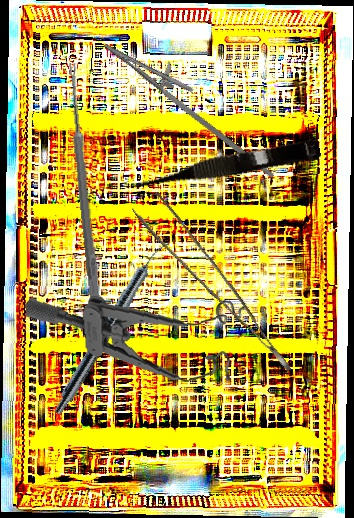Handpiece: (50, 234, 172, 420)
Micro Scissor: (124, 134, 322, 197)
Needle Holder: (89, 28, 297, 180)
Speculum: (24, 284, 251, 395)
Surgical Spoon: (65, 62, 102, 300)
Tissue Forceps: (131, 184, 292, 394)
